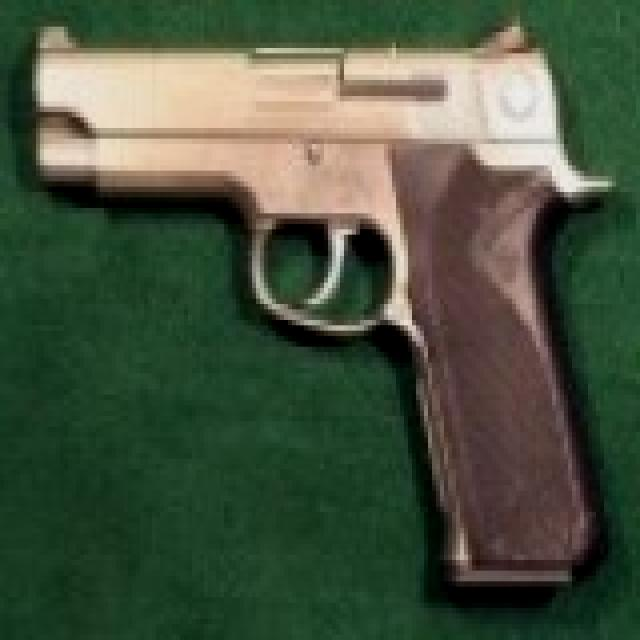pistol: (36, 16, 624, 576)
